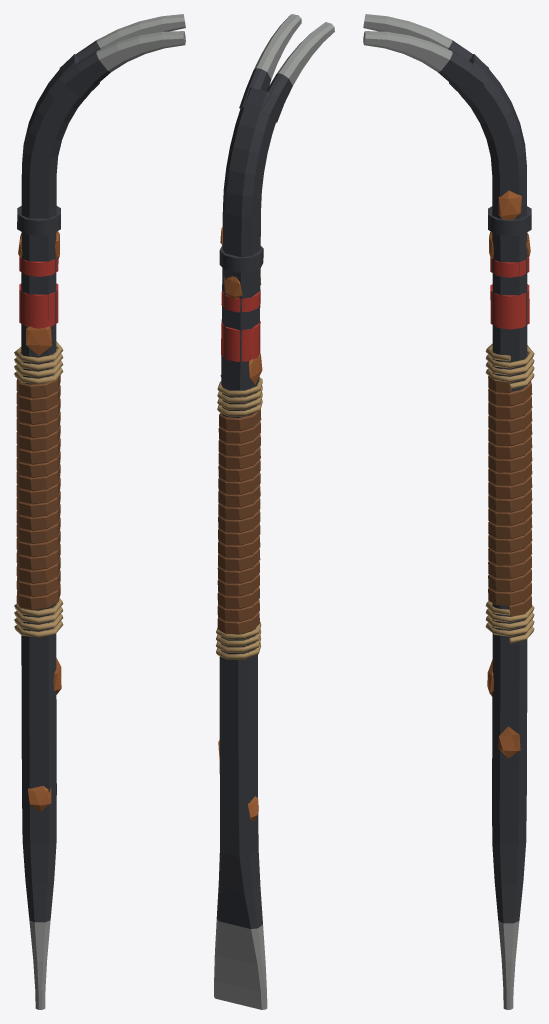
The model's file is tool_crowbar.fbx.
The picture shows the model from 3 angles, left to right: view 1: azimuth 90°, elevation 25°; view 2: azimuth 150°, elevation 25°; view 3: azimuth 270°, elevation 25°; orthographic projection. The views are drawn at different scales.
Parts seen in each view (by area): view 1: Tool_Crowbar_Bar, Tool_Crowbar_Wrap, Tool_Crowbar_Claw, Tool_Crowbar_Bands, Tool_Crowbar_RustPatches; view 2: Tool_Crowbar_Bar, Tool_Crowbar_Wrap, Tool_Crowbar_Claw, Tool_Crowbar_Bands, Tool_Crowbar_RustPatches; view 3: Tool_Crowbar_Bar, Tool_Crowbar_Wrap, Tool_Crowbar_Claw, Tool_Crowbar_Bands, Tool_Crowbar_RustPatches.
Boxes of the visible parts, x1=… form: Tool_Crowbar_Bar: x1=21, y1=54, x2=99, y2=1009; Tool_Crowbar_Wrap: x1=14, y1=341, x2=63, y2=637; Tool_Crowbar_Claw: x1=59, y1=14, x2=185, y2=98; Tool_Crowbar_Bands: x1=17, y1=206, x2=60, y2=328; Tool_Crowbar_RustPatches: x1=18, y1=231, x2=61, y2=811; Tool_Crowbar_Bar: x1=214, y1=87, x2=275, y2=1009; Tool_Crowbar_Wrap: x1=216, y1=375, x2=262, y2=659; Tool_Crowbar_Claw: x1=239, y1=14, x2=334, y2=122; Tool_Crowbar_Bands: x1=219, y1=245, x2=263, y2=361; Tool_Crowbar_RustPatches: x1=218, y1=226, x2=262, y2=821; Tool_Crowbar_Bar: x1=449, y1=54, x2=527, y2=1009; Tool_Crowbar_Wrap: x1=485, y1=343, x2=534, y2=643; Tool_Crowbar_Claw: x1=363, y1=14, x2=489, y2=98; Tool_Crowbar_Bands: x1=488, y1=206, x2=531, y2=329; Tool_Crowbar_RustPatches: x1=487, y1=190, x2=530, y2=757.
Size of the model in its own units: 6 by 104 by 16.55.
